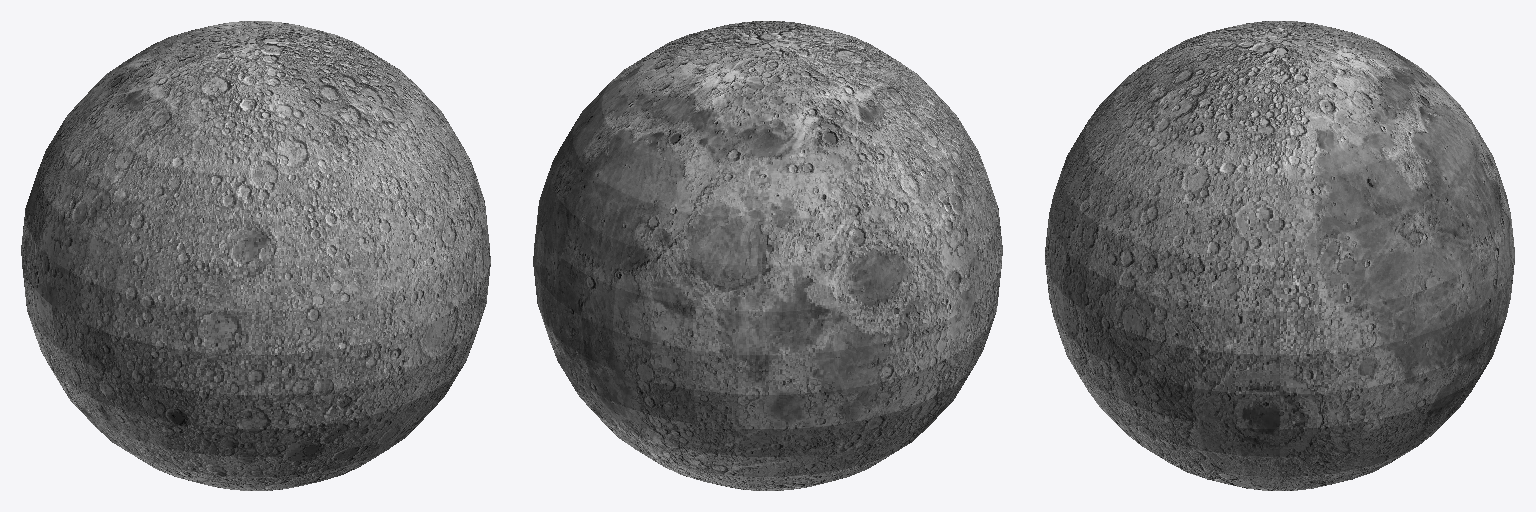
3 renders of one model, left to right at view 1: azimuth 30°, elevation 25°; view 2: azimuth 150°, elevation 25°; view 3: azimuth 270°, elevation 25°, orthographic.
Visible parts, largest first — view 1: Sphere; view 2: Sphere; view 3: Sphere.
Boxes of the visible parts, box(x1,y1,x2,y2) form: Sphere: box(21, 21, 490, 490); Sphere: box(533, 21, 1002, 490); Sphere: box(1045, 21, 1514, 490).
Bounding box in the file's own units: 2 × 1.99 × 2.
1 materials, 1 textured.